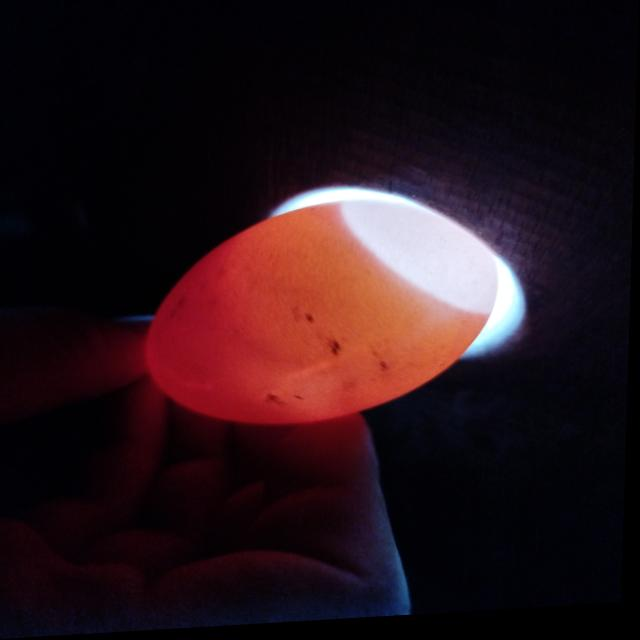Camara de Ar: (343, 204, 500, 318)
